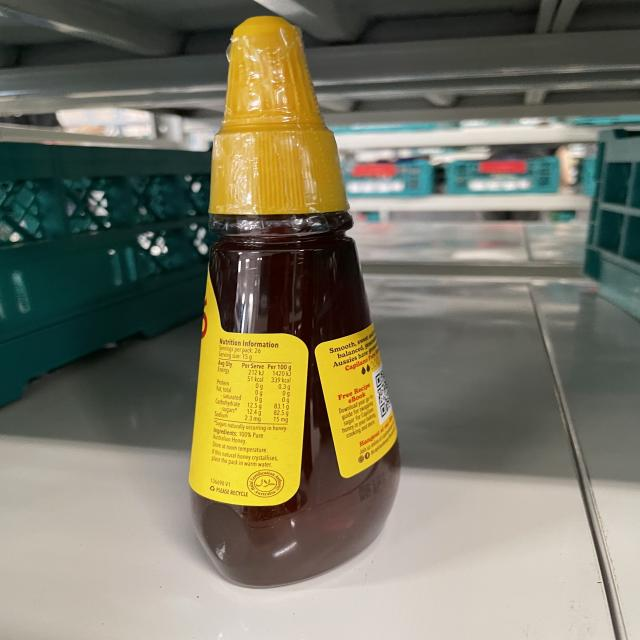object_name: (199, 19, 401, 571)
